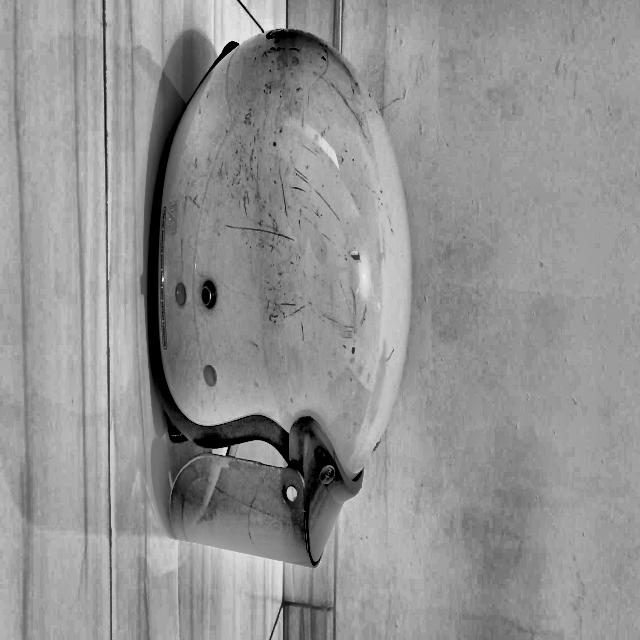Helmet: (318, 437, 640, 640)
